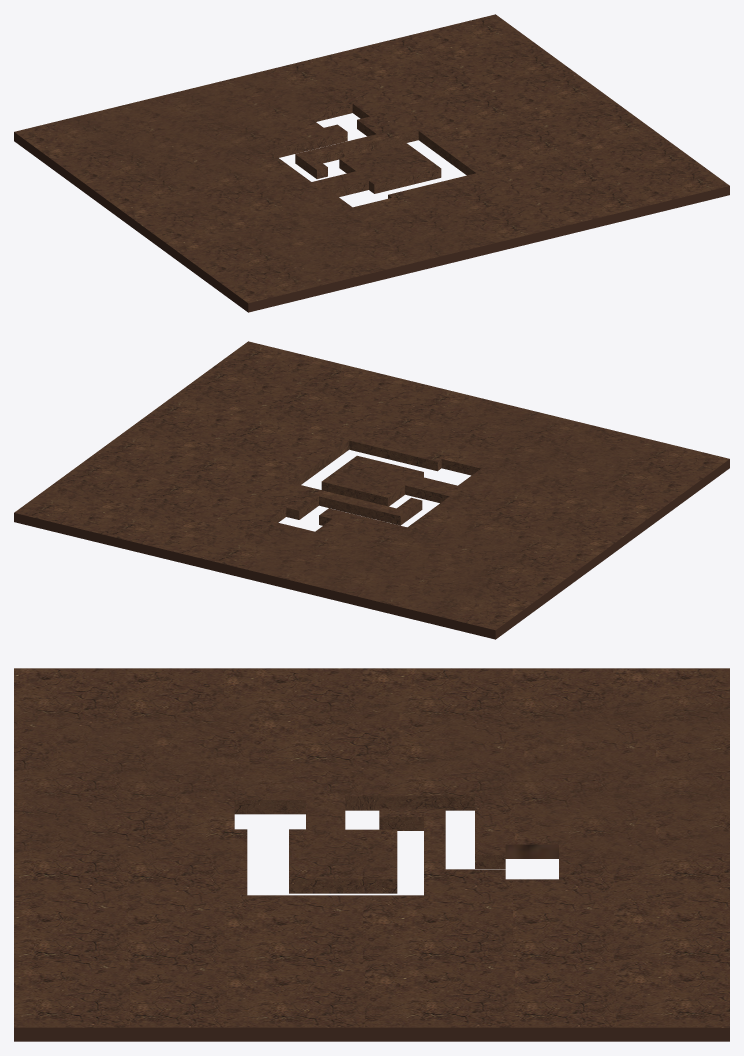
File: terrain.fbx
The picture shows the model from 3 angles, top to bottom: view 1: azimuth 30°, elevation 25°; view 2: azimuth 150°, elevation 25°; view 3: azimuth 270°, elevation 25°; orthographic projection. The views are drawn at different scales.
Parts seen in each view (by area): view 1: pPlane4; view 2: pPlane4; view 3: pPlane4.
Boxes of the visible parts, bbox=[...] form: pPlane4: bbox=[14, 14, 729, 312]; pPlane4: bbox=[14, 341, 729, 639]; pPlane4: bbox=[14, 668, 729, 1041].
Bounding box in the file's own units: 236 × 4.34 × 198.
